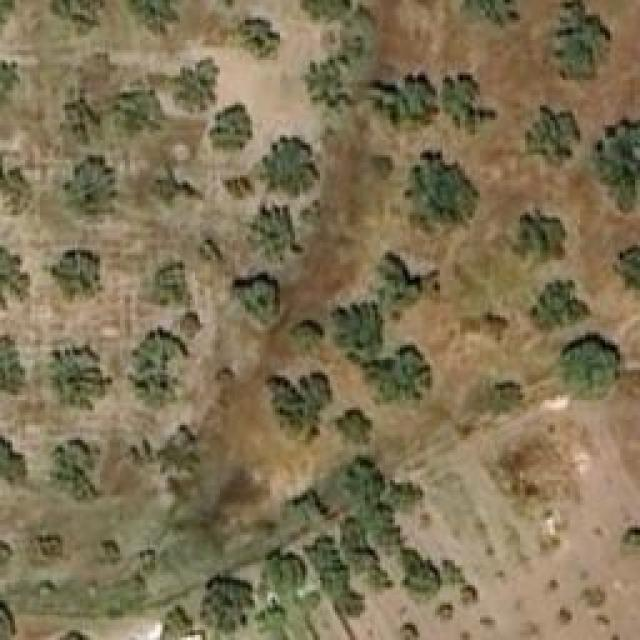Tree: (405, 150, 480, 238), (543, 0, 613, 85), (265, 370, 333, 445), (127, 328, 185, 411), (48, 342, 113, 410), (595, 115, 640, 213), (258, 135, 323, 198), (440, 68, 498, 138), (513, 210, 573, 273), (375, 75, 435, 138), (528, 275, 591, 333), (562, 335, 620, 398), (200, 575, 255, 640), (525, 105, 580, 168), (48, 440, 103, 503), (375, 250, 428, 313), (50, 250, 105, 303), (370, 348, 425, 401), (228, 273, 281, 326), (172, 58, 220, 113), (113, 90, 168, 138), (335, 308, 383, 361), (0, 147, 32, 217), (48, 0, 111, 35), (210, 103, 253, 153), (73, 155, 116, 205), (0, 240, 30, 310), (130, 0, 188, 35), (250, 208, 288, 261), (67, 97, 105, 145), (150, 263, 190, 308), (303, 58, 343, 103), (460, 0, 523, 28), (612, 243, 640, 306), (238, 20, 281, 60), (280, 490, 323, 530), (0, 335, 28, 395), (263, 555, 298, 598), (335, 407, 373, 445), (405, 560, 438, 603), (0, 438, 28, 488), (153, 173, 193, 207), (348, 460, 378, 503), (290, 318, 325, 353), (383, 480, 421, 511), (302, 0, 349, 22), (335, 588, 367, 619), (337, 35, 365, 68), (310, 535, 335, 570), (368, 154, 396, 184), (620, 528, 640, 563), (135, 547, 160, 575), (175, 310, 203, 335), (223, 178, 253, 201), (98, 537, 121, 565), (458, 580, 481, 607), (38, 535, 63, 558), (400, 622, 420, 640)
